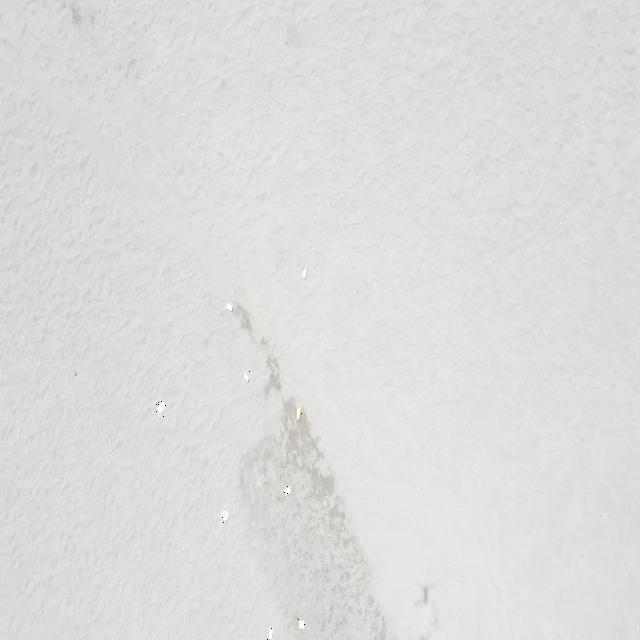Garbage: (155, 400, 164, 415), (220, 510, 227, 522), (300, 266, 307, 278), (224, 301, 232, 311), (283, 484, 289, 495), (243, 371, 249, 382), (267, 627, 272, 639), (296, 406, 300, 420), (298, 617, 303, 627)
